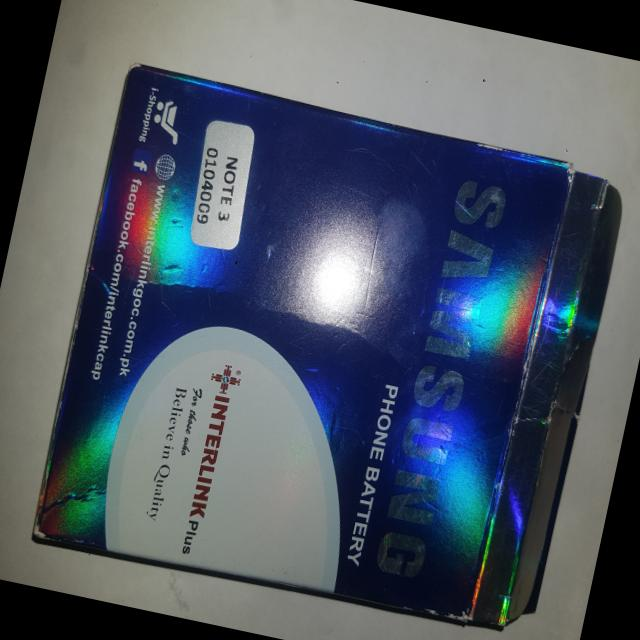electronic: (28, 62, 631, 640)
